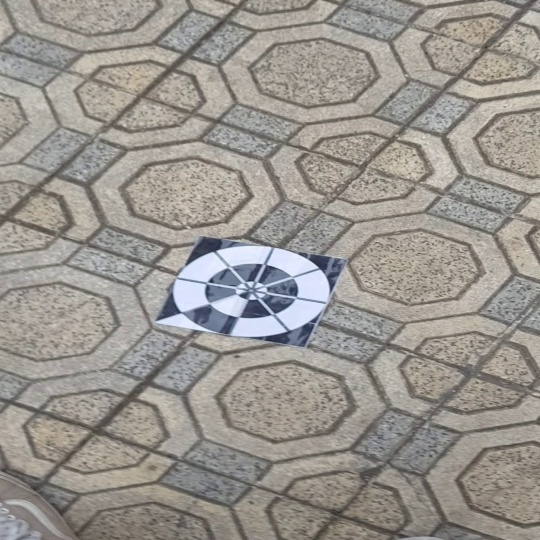landing-zone: (152, 234, 348, 351)
